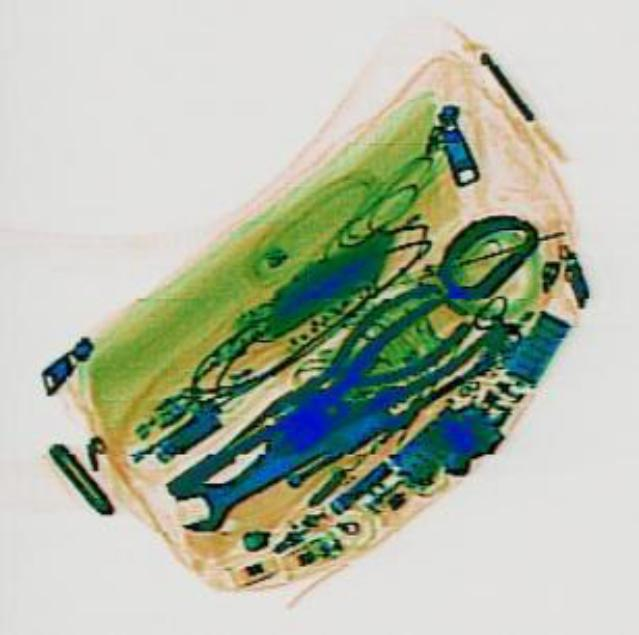Pliers: (192, 270, 475, 477), (235, 287, 476, 460)
Wrench: (160, 371, 425, 538)
